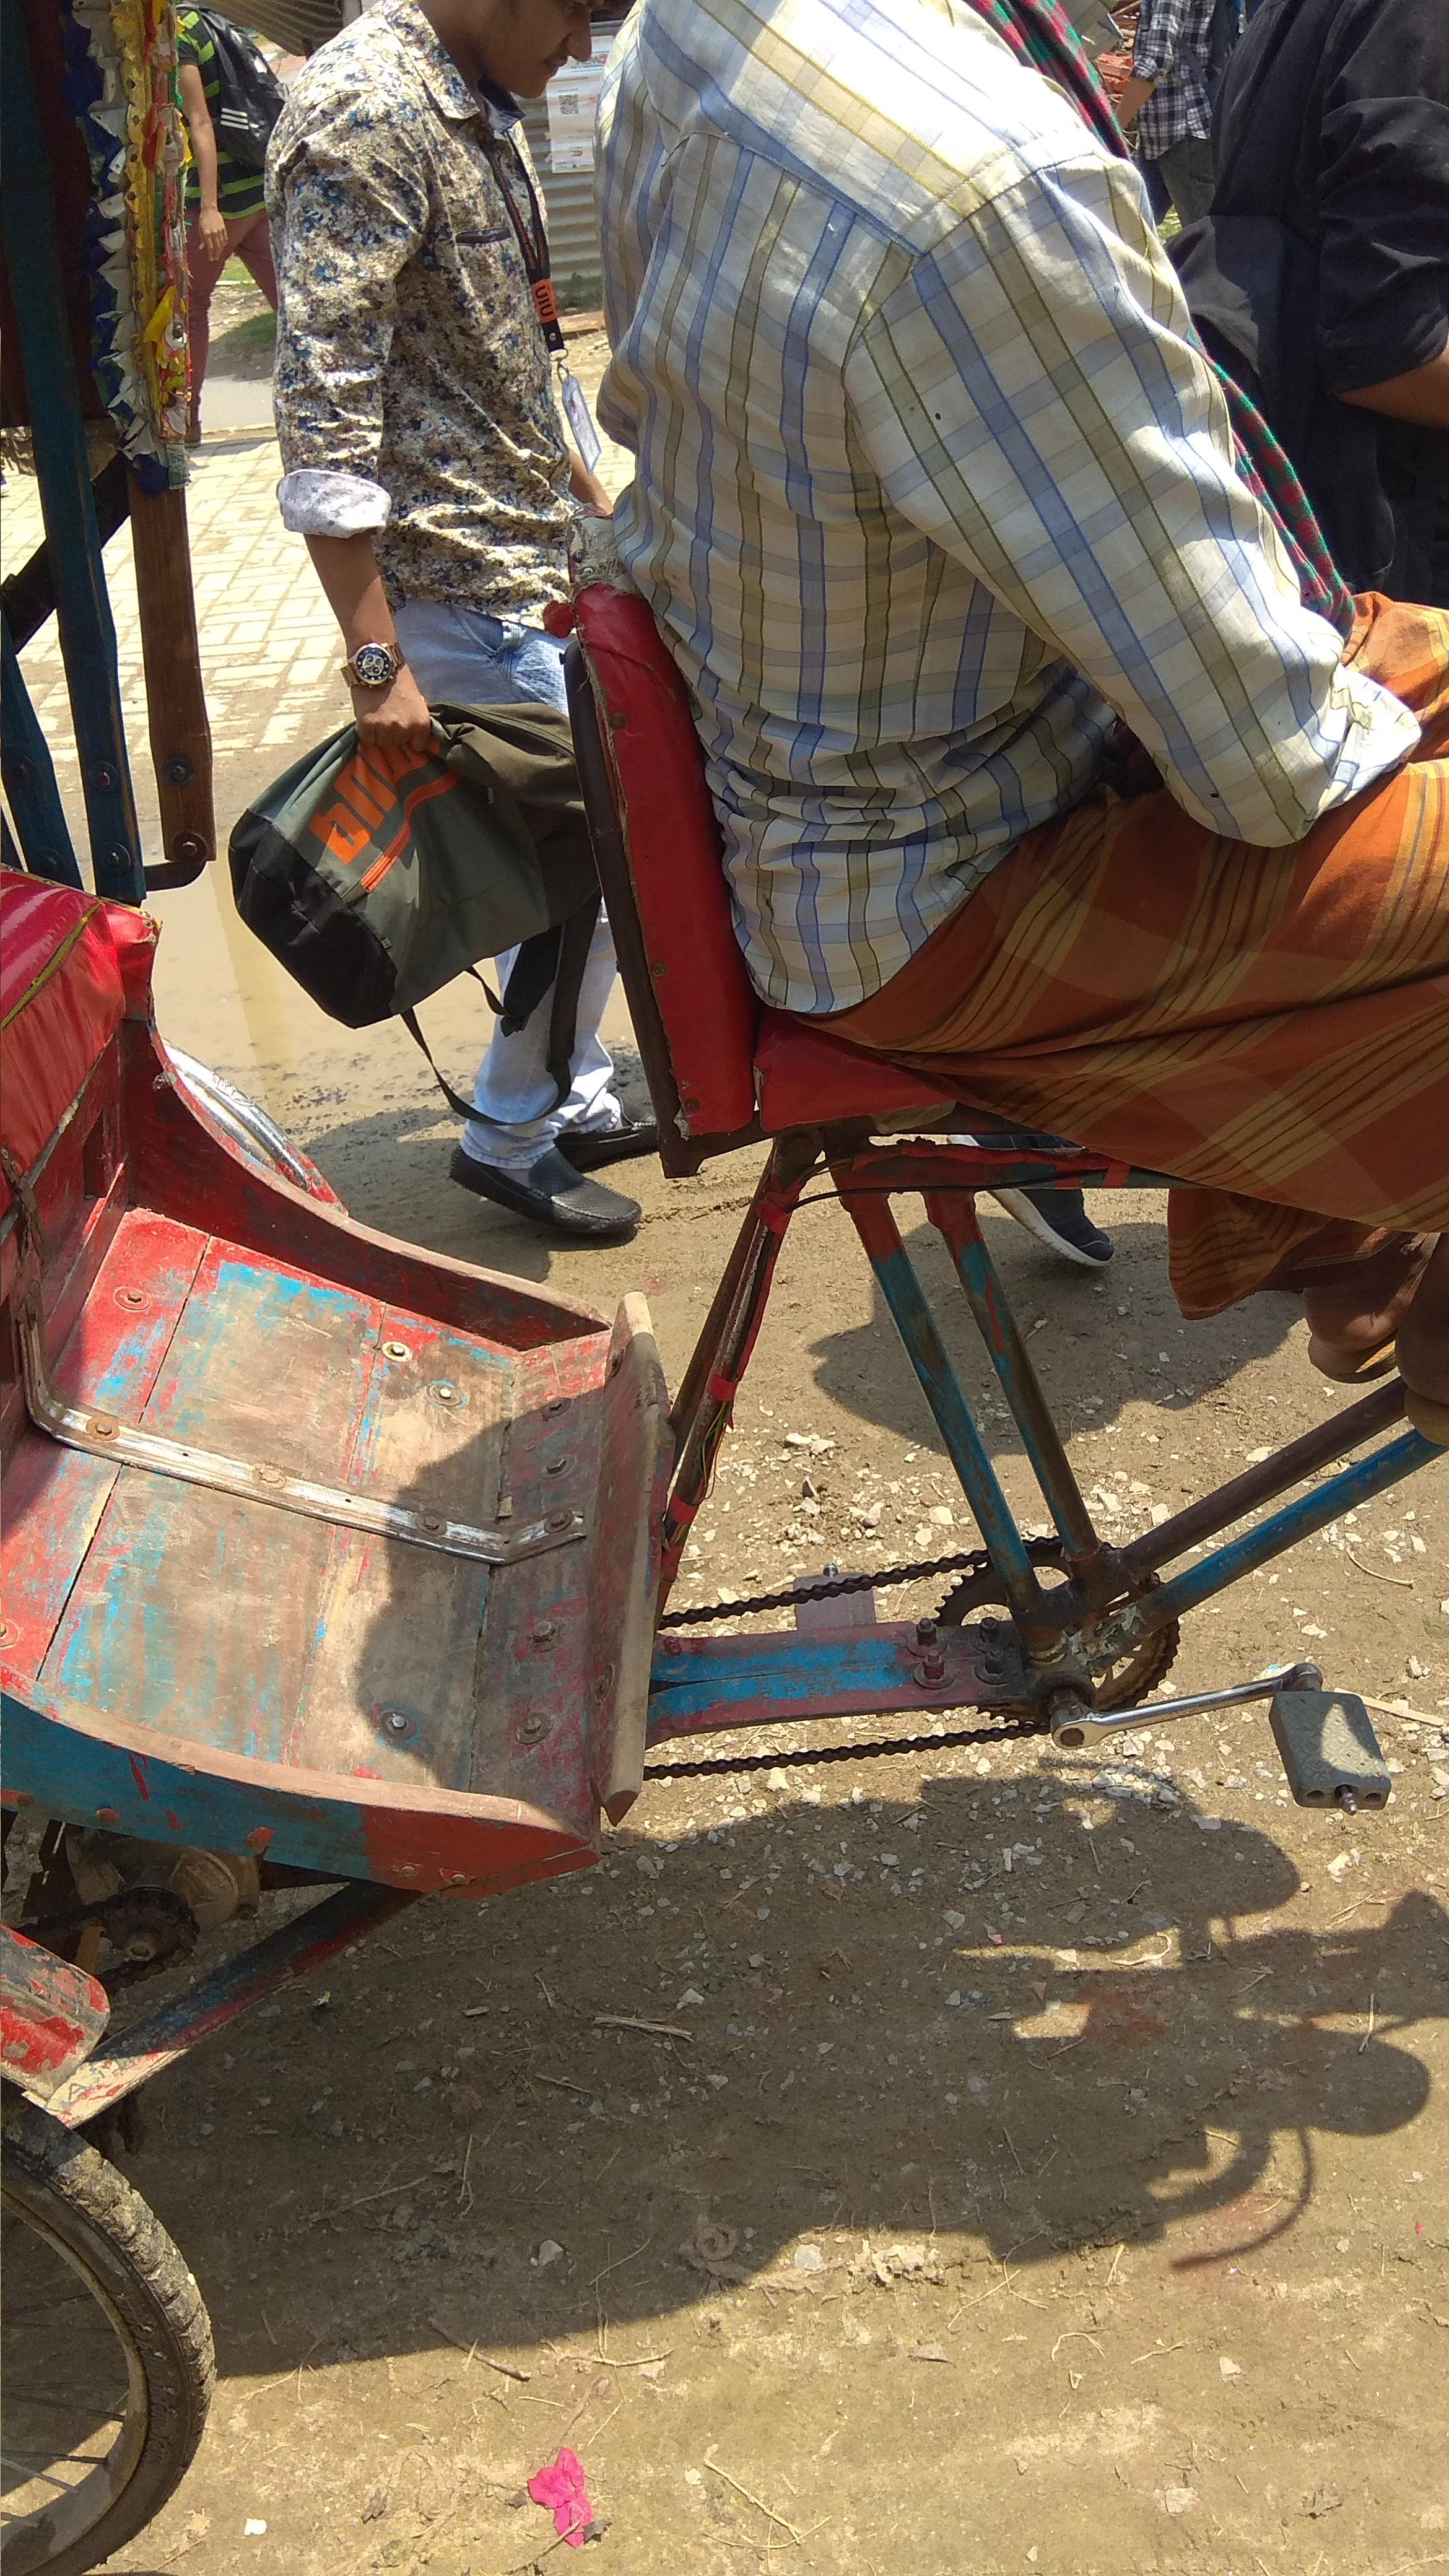Rickshaw: (16, 2, 1401, 2286)
